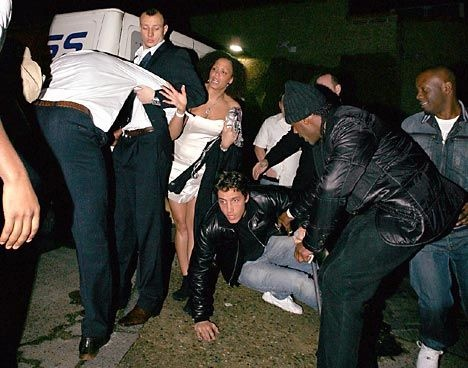falling: (186, 165, 329, 348)
